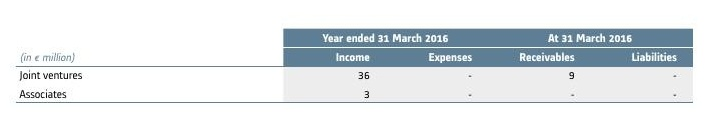table: (0, 0, 711, 119)
